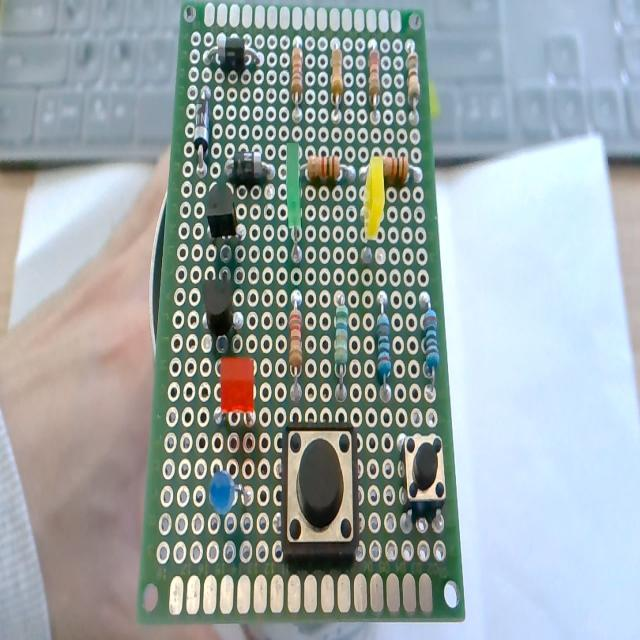diode: (190, 82, 214, 164), (206, 34, 260, 70), (224, 145, 268, 182)
led: (205, 356, 265, 441), (203, 454, 253, 530), (280, 141, 308, 263), (359, 154, 382, 270)
resistor: (416, 292, 444, 398), (371, 292, 395, 404), (330, 286, 350, 398), (327, 36, 351, 128), (287, 287, 307, 389), (402, 31, 423, 123), (302, 151, 352, 189), (364, 35, 385, 125), (285, 30, 306, 116)
switch: (276, 412, 364, 582), (398, 425, 452, 518)
transistor: (189, 178, 253, 253), (189, 274, 249, 339)
